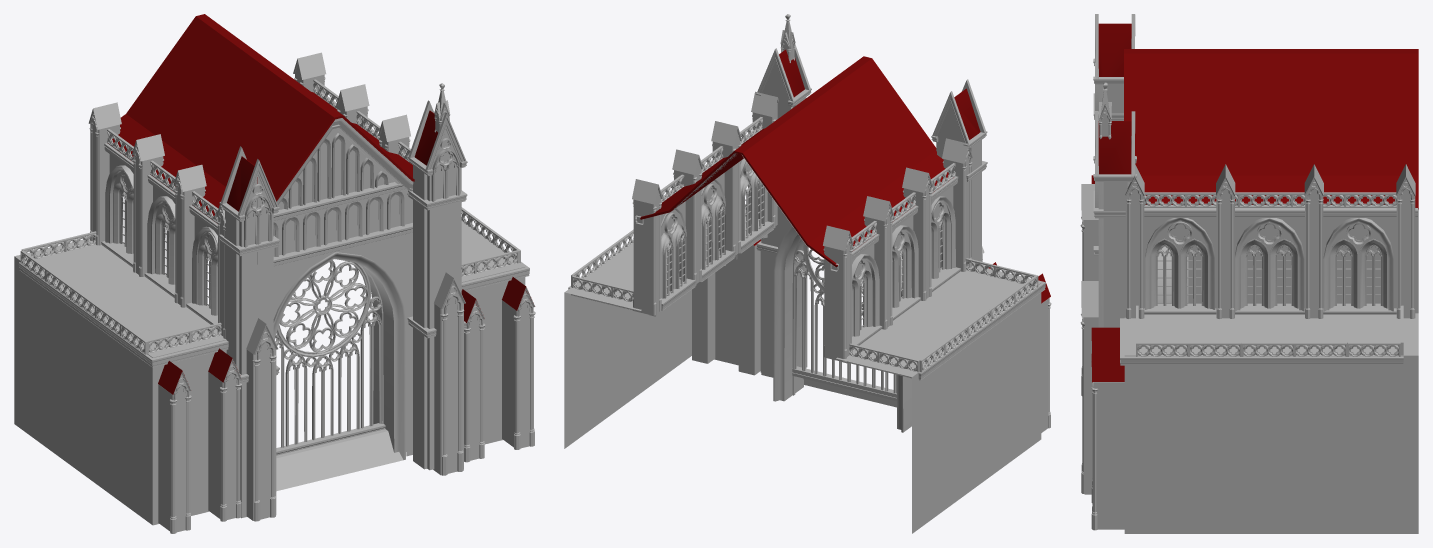
Rendered from wing_003.glb.
The picture shows the model from 3 angles, left to right: view 1: azimuth 30°, elevation 25°; view 2: azimuth 150°, elevation 25°; view 3: azimuth 270°, elevation 25°; orthographic projection. The views are drawn at different scales.
Visible parts, largest first — view 1: wing_003; view 2: wing_003; view 3: wing_003.
Boxes of the visible parts, box(x1,y1,x2,y2) form: wing_003: box(14, 14, 535, 533); wing_003: box(564, 14, 1051, 533); wing_003: box(1080, 14, 1418, 533).
Size of the model in its own units: 4.15 by 4.01 by 3.03.
